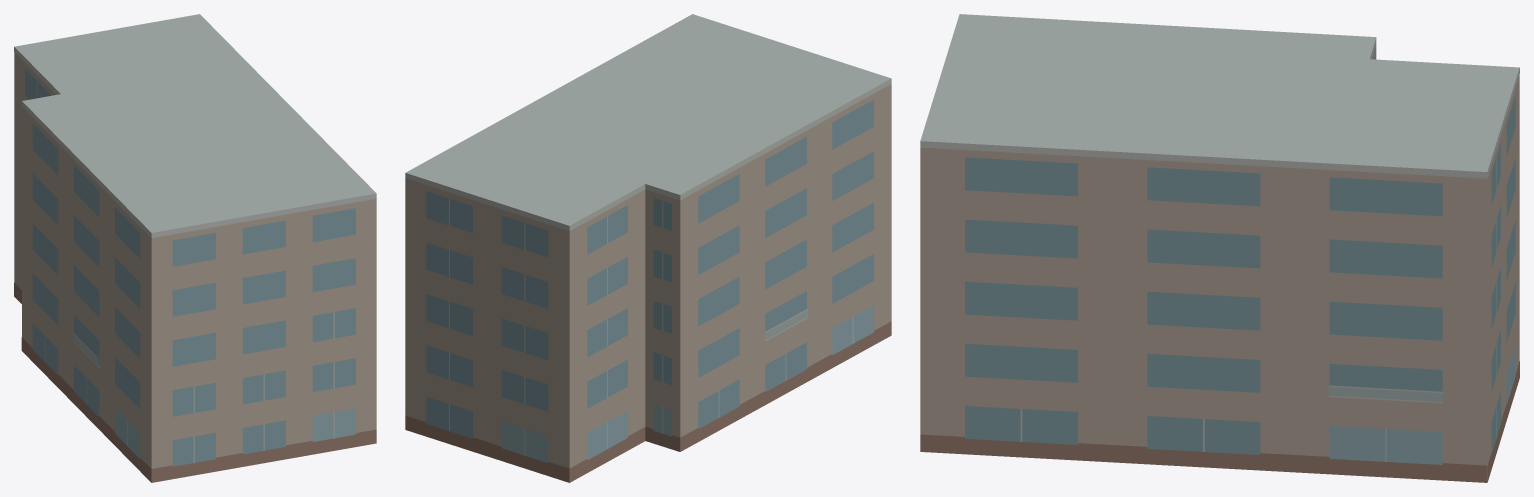
File: survey-upis-32658206.glb
3 views of the same model, side by side, from view 1: azimuth 30°, elevation 25°; view 2: azimuth 150°, elevation 25°; view 3: azimuth 270°, elevation 25° (orthographic). The views are drawn at different scales.
Parts seen in each view (by area): view 1: survey-upis-32658206.tmp; view 2: survey-upis-32658206.tmp; view 3: survey-upis-32658206.tmp.
Part boxes in pixels (x1,y1,x2,y2): survey-upis-32658206.tmp: [14, 14, 376, 482]; survey-upis-32658206.tmp: [405, 14, 891, 482]; survey-upis-32658206.tmp: [920, 14, 1519, 482].
Size of the model in its own units: 12.78 by 11.7 by 20.47.
